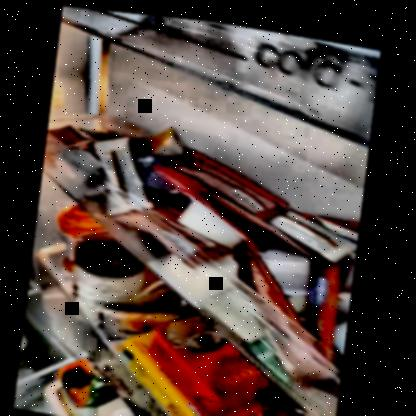butter: (111, 335, 265, 415)
